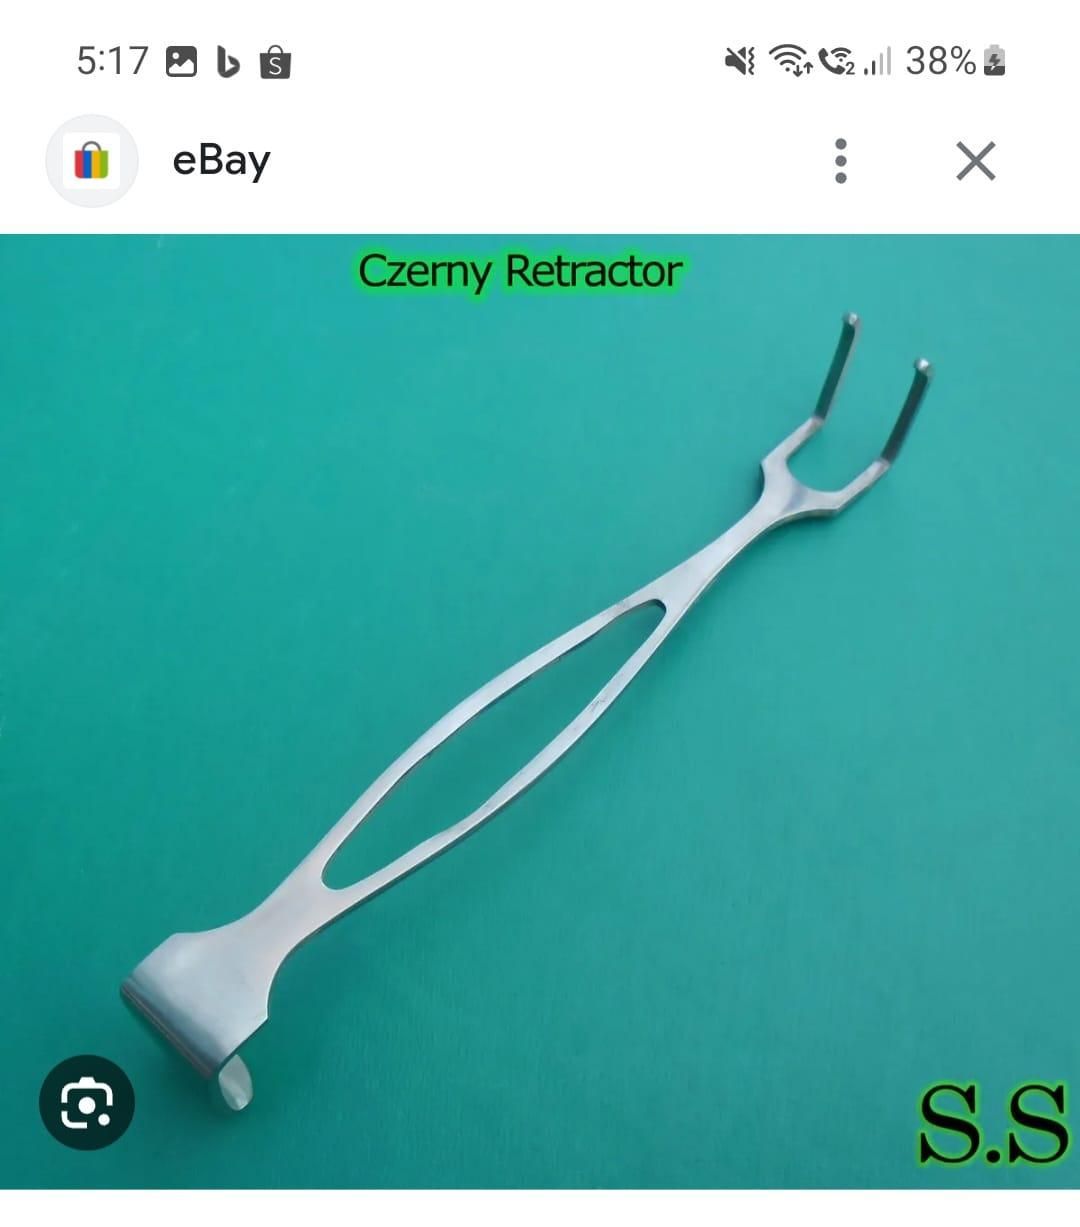Czerney Retractor: (128, 306, 936, 1124)
